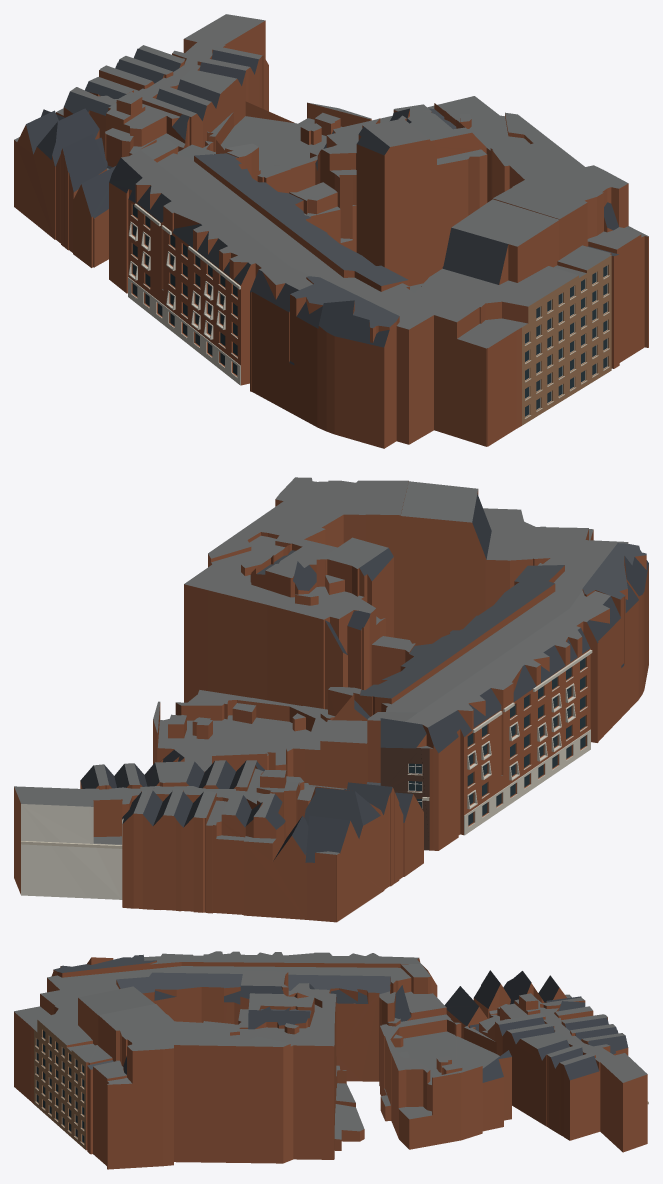
Rendered from recipe-large-engelsesteeg-165098.glb.
The picture shows the model from 3 angles, top to bottom: view 1: azimuth 30°, elevation 25°; view 2: azimuth 150°, elevation 25°; view 3: azimuth 270°, elevation 25°; orthographic projection. The views are drawn at different scales.
Parts seen in each view (by area): view 1: engelsesteeg-165098; view 2: engelsesteeg-165098; view 3: engelsesteeg-165098.
Part boxes in pixels (box(x1,y1,x2,y2)): engelsesteeg-165098: box(14, 14, 648, 448); engelsesteeg-165098: box(14, 477, 648, 922); engelsesteeg-165098: box(14, 951, 648, 1169).
Bounding box in the file's own units: 55.35 × 26.98 × 115.
